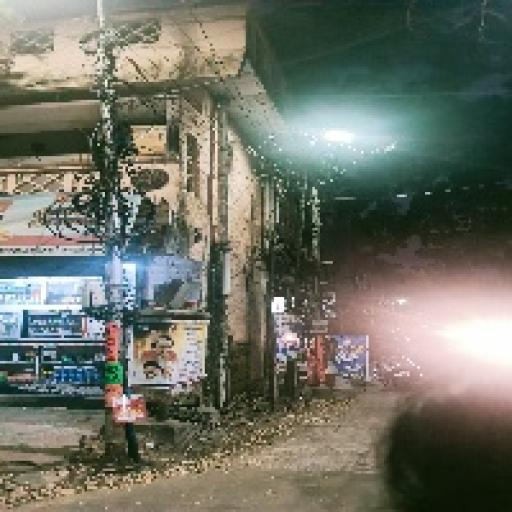Working: (312, 121, 360, 152)
